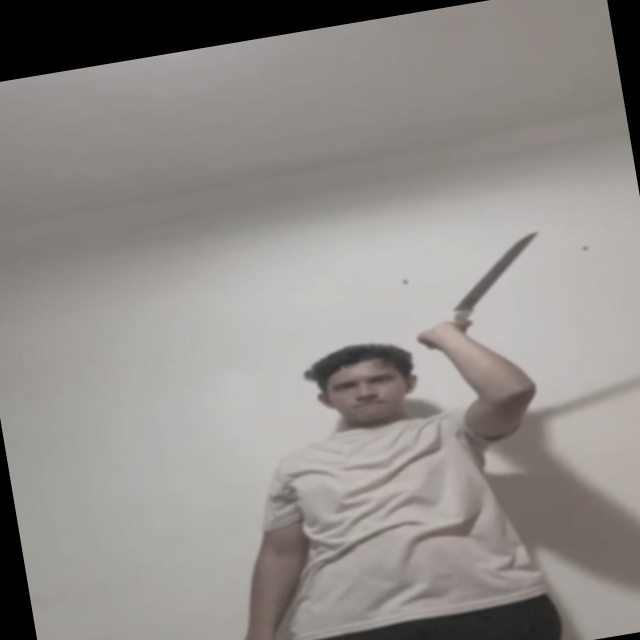Sharp-Object: (446, 233, 544, 311)
